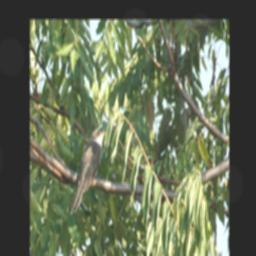Cuckoo: (67, 126, 108, 217)
